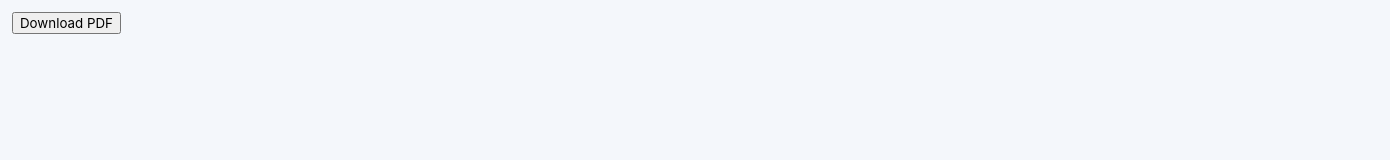
Scenario: save chooser precedes authentication and saves current locked PDF with supervisor access
What coordinates should you click on to do the following:
click the button "Download PDF"
I would click on:
 (66, 23)
Its box is [12, 12, 121, 34].
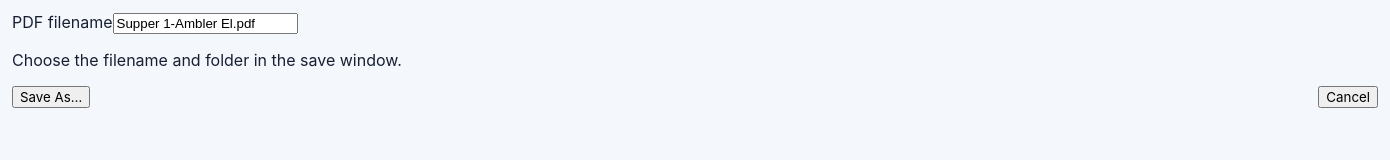
Expected: the field labelled "PDF filename" holds "Supper 1-Ambler El.pdf", [112, 13, 298, 34]
What coordinates should you click on to do the following:
click the button "Save As…"
I would click on:
 (51, 97)
Its box is [12, 86, 90, 108].
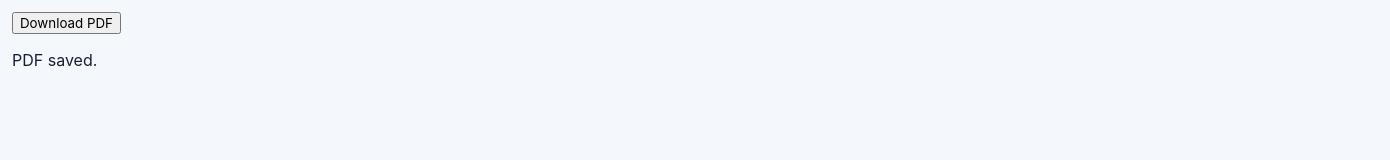
Expected: the text "PDF saved." is shown, [12, 50, 97, 70]
